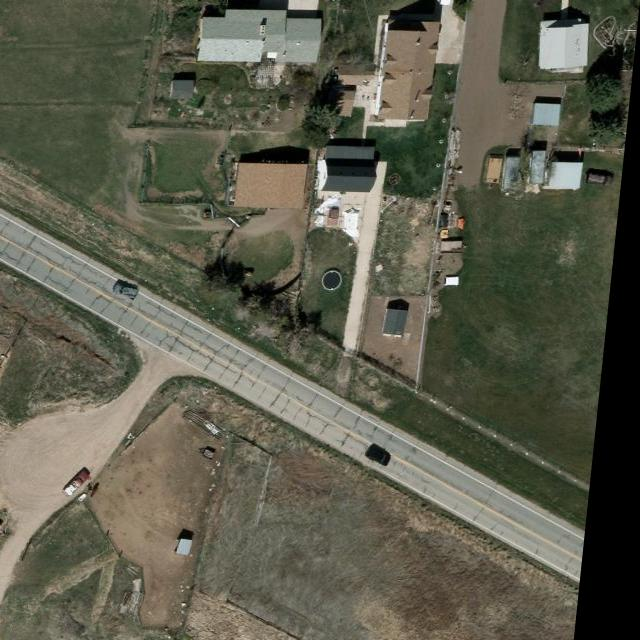vehicle: (72, 470, 101, 498), (373, 445, 405, 466), (117, 280, 146, 302), (590, 169, 620, 185)
